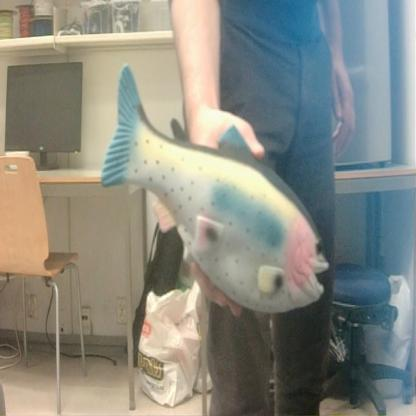rubberfish: (96, 52, 332, 327)
